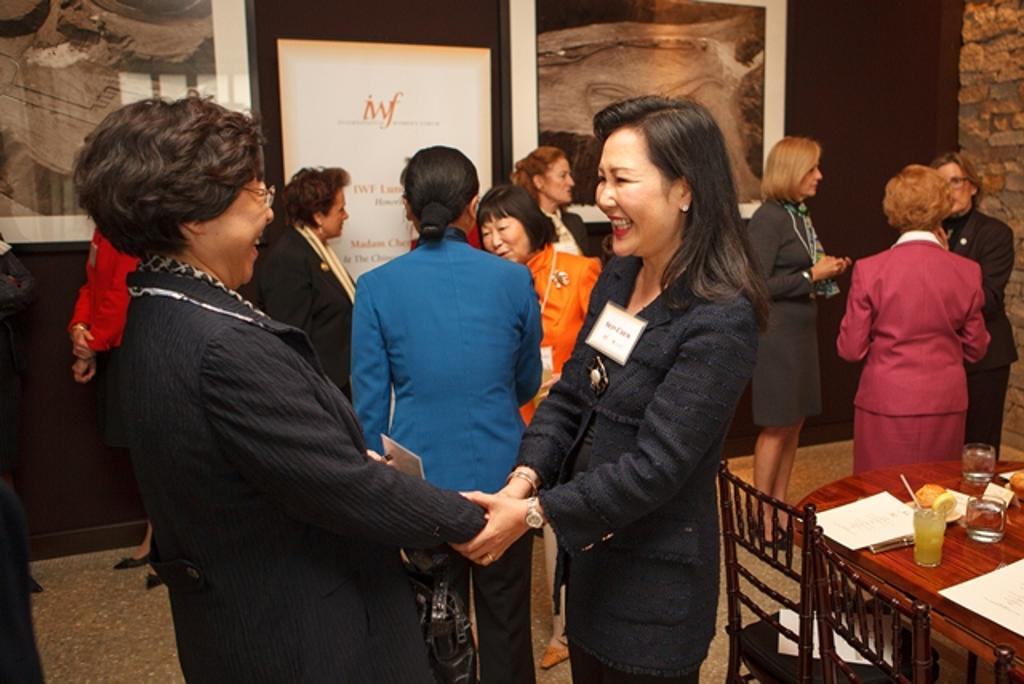face: (181, 164, 273, 281), (594, 142, 677, 255), (481, 216, 531, 264), (313, 190, 349, 237), (929, 171, 966, 212), (546, 159, 574, 202), (795, 158, 822, 197)
